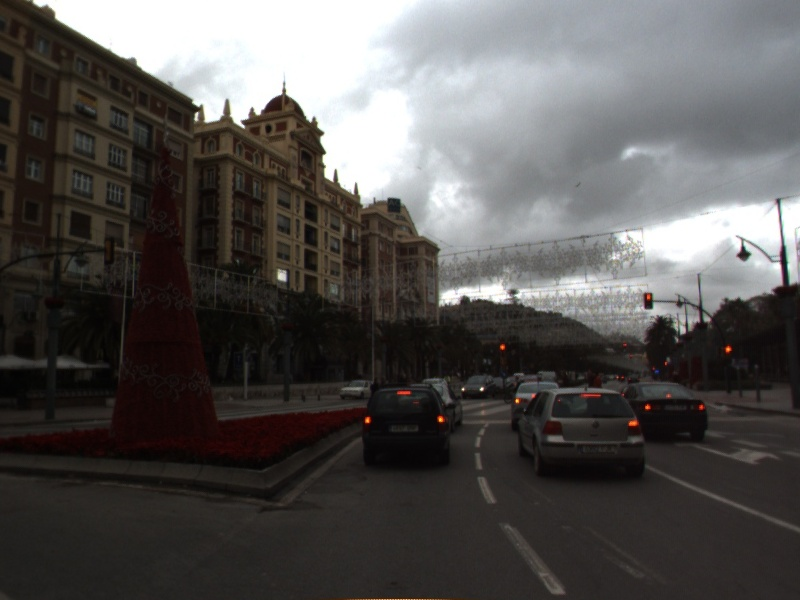STRAIGHT_RIGHT: (673, 438, 786, 467)
